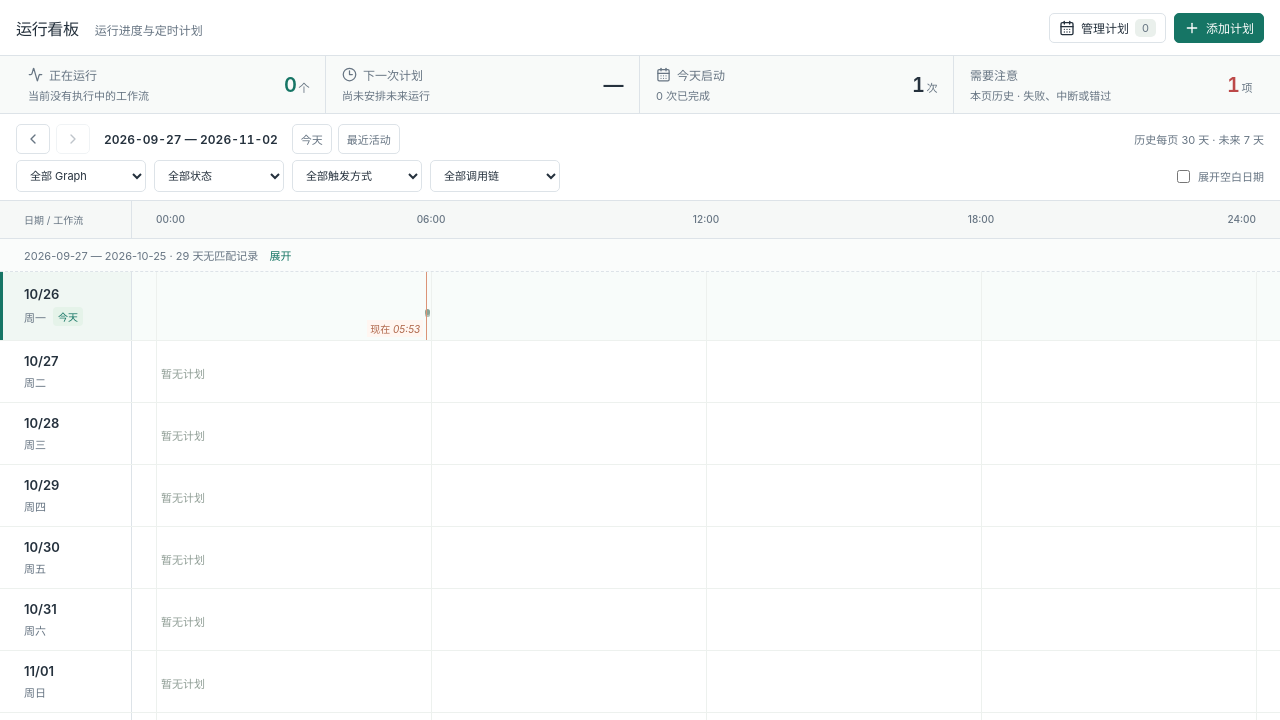
Test: Timeline Run failure details › shows the failed Run reason returned in the HTTP detail after opening its bar
Click the button named "failure-graph，失败，05:52": {"x": 428, "y": 313} [426, 309, 430, 317]
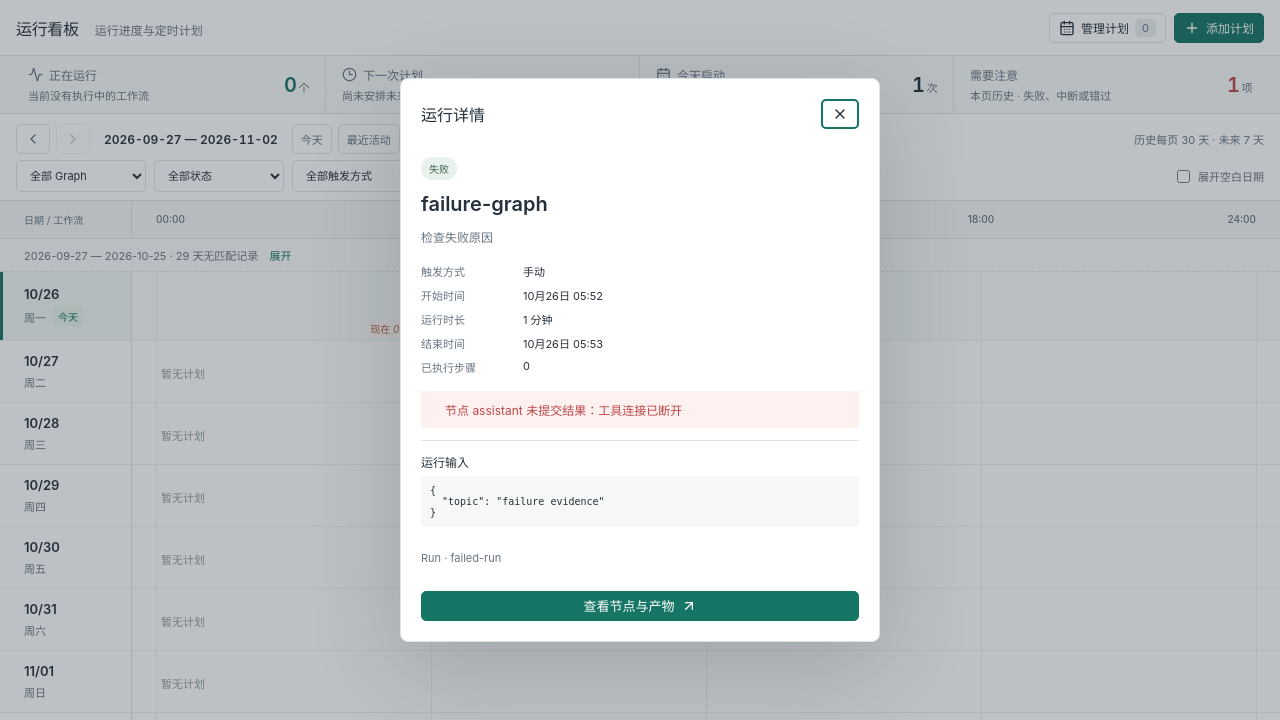
Now the message "节点 assistant 未提交结果：工具连接已断开" is shown, box [421, 391, 859, 428]
Now the text with class "board-badge" reads "失败", box [429, 163, 449, 175]
Now the element showing "运行输入 { \"topic\": \"failure evidence\" }" is shown, box [421, 440, 859, 527]
